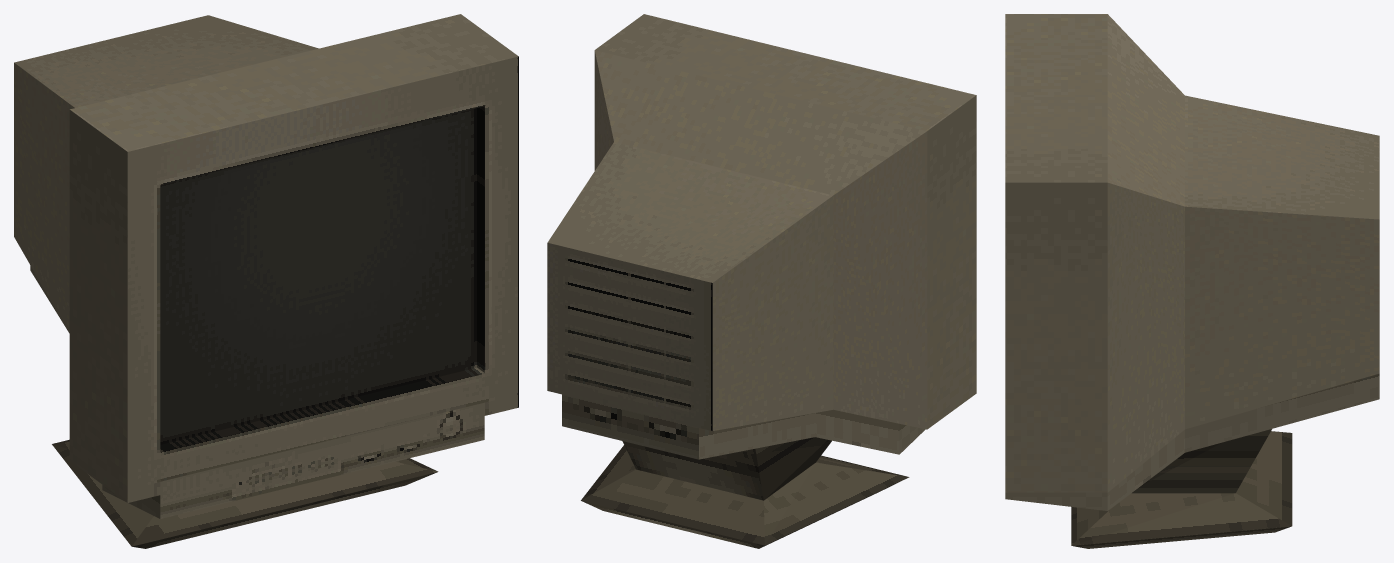
The model's file is crt_monitor.glb.
3 views of the same model, side by side, from view 1: azimuth 30°, elevation 25°; view 2: azimuth 150°, elevation 25°; view 3: azimuth 270°, elevation 25° (orthographic). The views are drawn at different scales.
Visible parts, largest first — view 1: crt_monitor; view 2: crt_monitor; view 3: crt_monitor.
Boxes of the visible parts, left/top/right/bottom form: crt_monitor: left=14, top=14, right=518, bottom=548; crt_monitor: left=547, top=14, right=976, bottom=548; crt_monitor: left=1005, top=14, right=1379, bottom=548.
Bounding box in the file's own units: 0.4 × 0.437 × 0.3755.
1 material, 1 textured.
